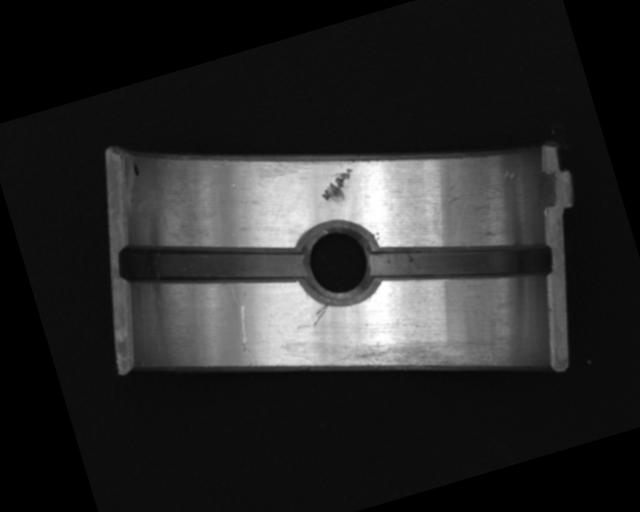blot: (130, 158, 142, 178)
bruise: (316, 167, 362, 209), (439, 192, 464, 209), (502, 167, 518, 181)
gap: (118, 202, 307, 327), (368, 208, 556, 320)
hole: (289, 216, 389, 314)
nick: (231, 303, 263, 369), (309, 304, 333, 326)
scratch: (332, 304, 504, 411)
